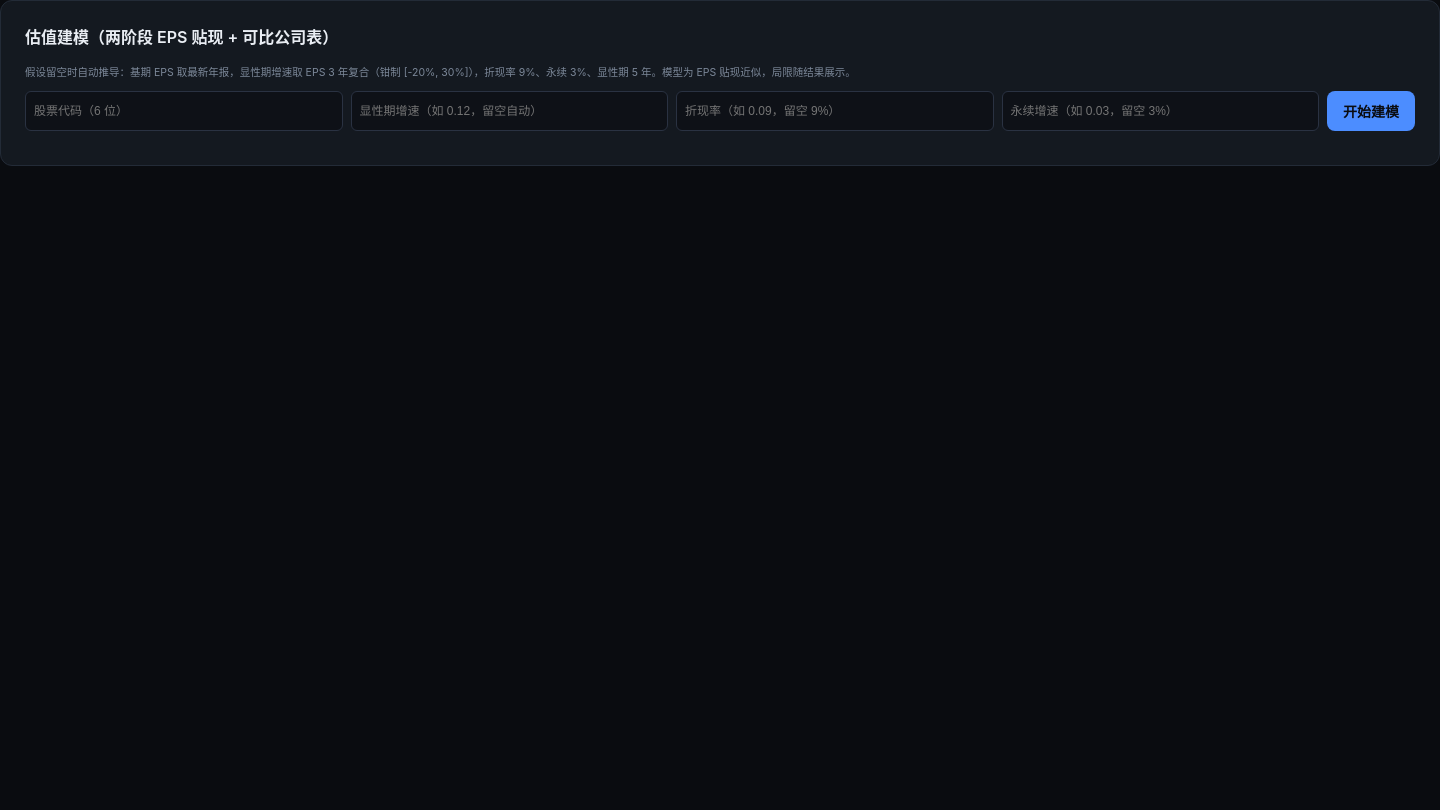
Test: ValuationPanel —— 结果渲染 › 无法计算溢价（—）时用中性色，不被染成方向色
The width and height of the screenshot is (1440, 810).
Step 1. Type "600519" into the field named "待估值的股票代码（6 位数字）" → x=184, y=111, box [25,91,342,131]
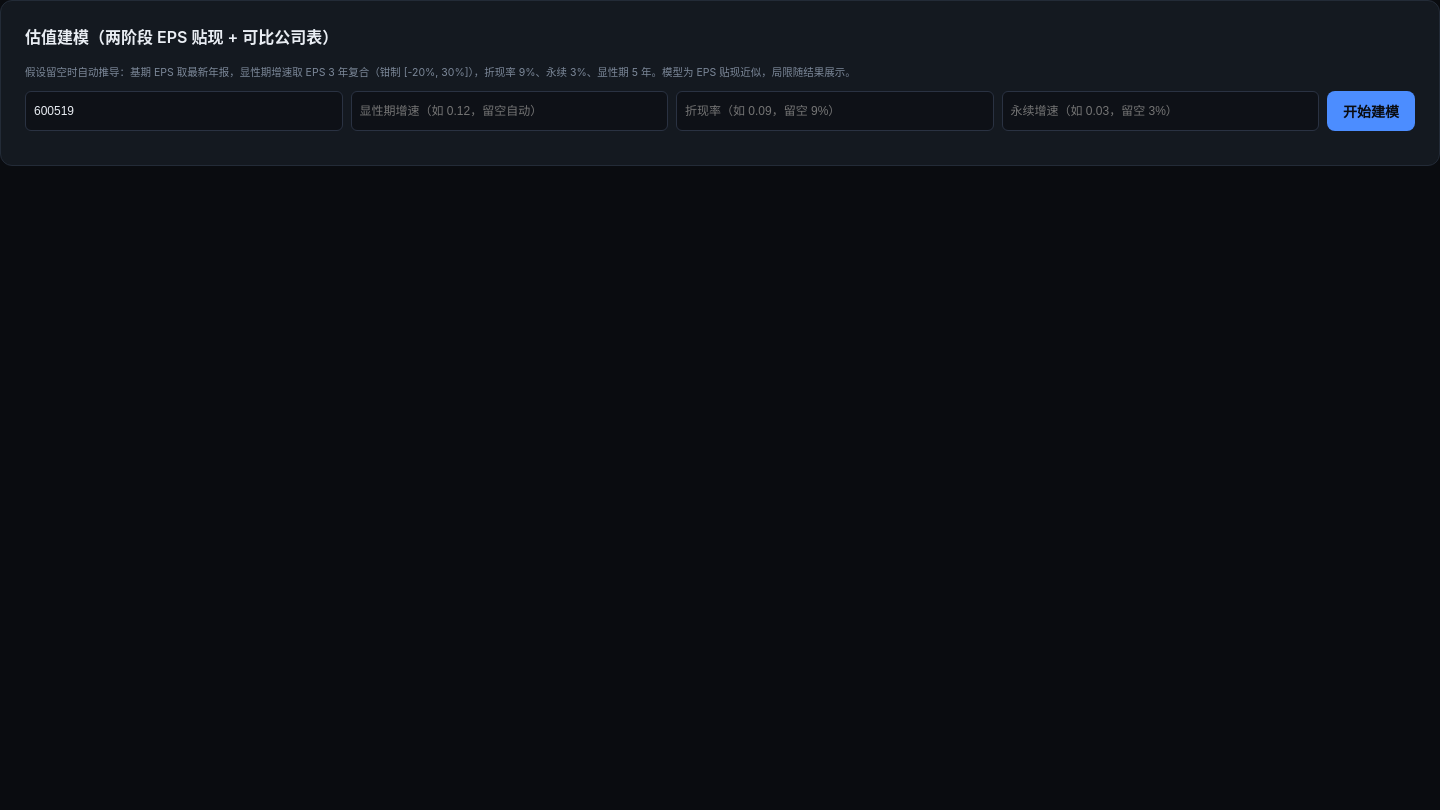
Step 2. Click the button "开始建模" → x=1371, y=111, box [1327,91,1415,131]
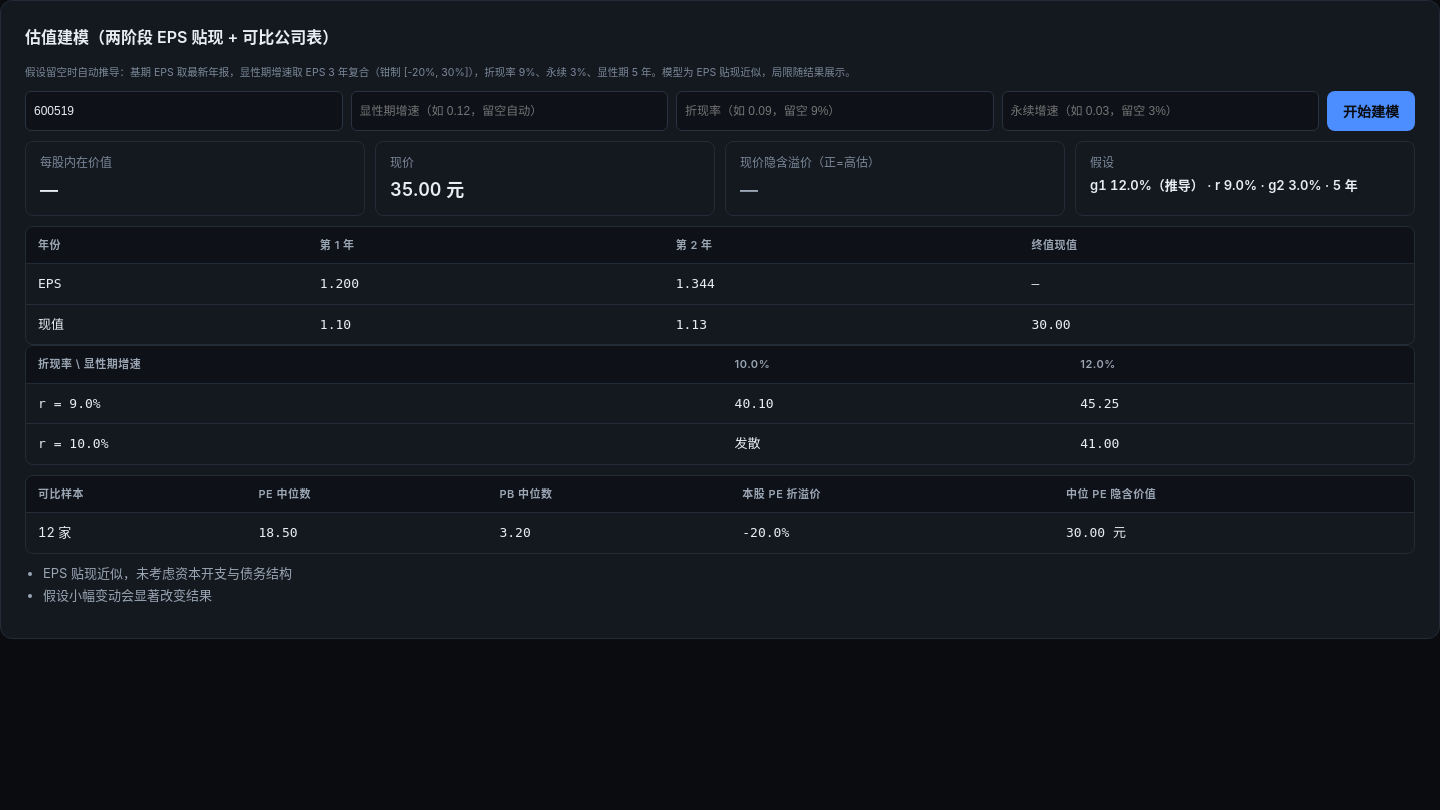
Check: the text "每股内在价值" is shown, box [40,155,112,170]
Check: the text "—" below "现价隐含溢价（正=高估）" is shown, box [740,179,758,200]
